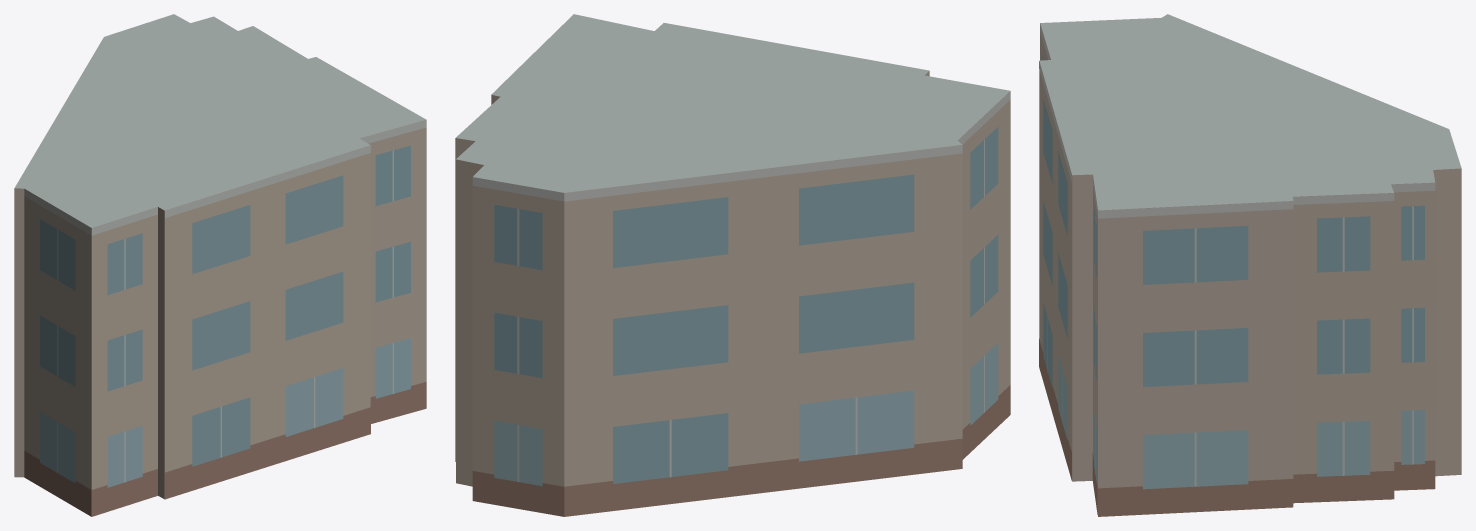
File: survey-upis-32893199.glb
3 views of the same model, side by side, from view 1: azimuth 30°, elevation 25°; view 2: azimuth 150°, elevation 25°; view 3: azimuth 270°, elevation 25° (orthographic). The views are drawn at different scales.
Visible parts, largest first — view 1: survey-upis-32893199.tmp; view 2: survey-upis-32893199.tmp; view 3: survey-upis-32893199.tmp.
Part boxes in pixels (x1,y1,x2,y2): survey-upis-32893199.tmp: (14,14,426,516); survey-upis-32893199.tmp: (455,14,1010,516); survey-upis-32893199.tmp: (1039,14,1461,516).
Size of the model in its own units: 12.59 by 9.15 by 11.45.
